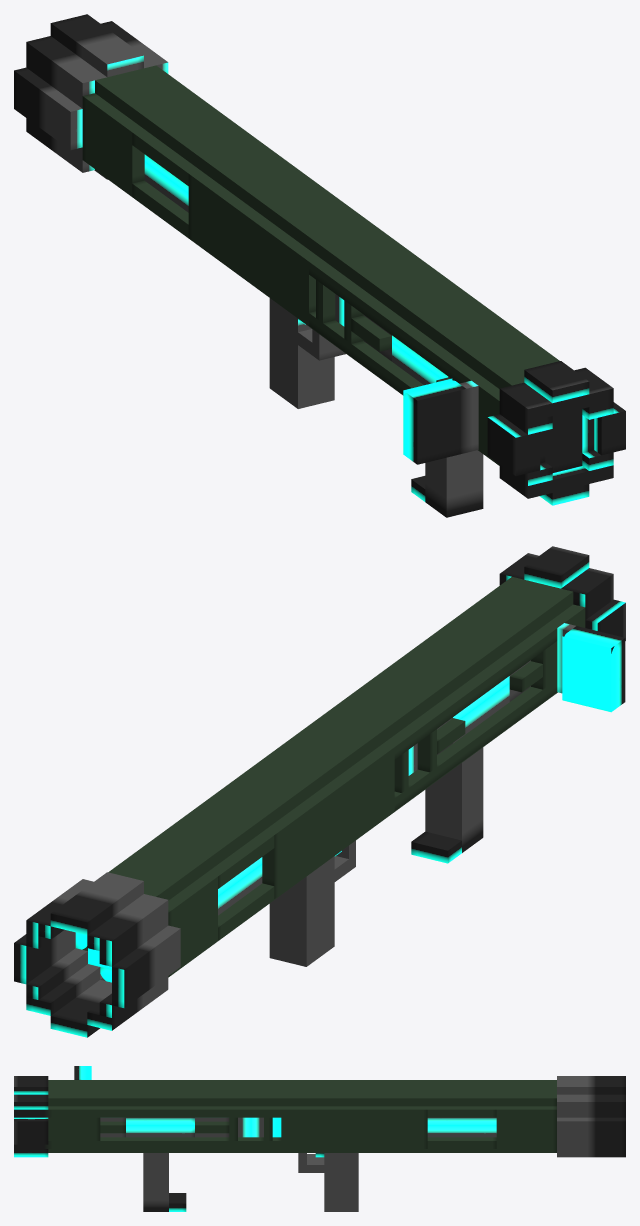
The model's file is RocketLauncher.dae.
The picture shows the model from 3 angles, top to bottom: view 1: azimuth 30°, elevation 25°; view 2: azimuth 150°, elevation 25°; view 3: azimuth 270°, elevation 25°; orthographic projection. The views are drawn at different scales.
Parts seen in each view (by area): view 1: RocketLauncher; view 2: RocketLauncher; view 3: RocketLauncher.
Part boxes in pixels (x1,y1,x2,y2): RocketLauncher: (14, 14, 625, 517); RocketLauncher: (14, 546, 625, 1037); RocketLauncher: (14, 1066, 625, 1211).
Size of the model in its own units: 13 by 16 by 71.
1 material, 1 textured.
